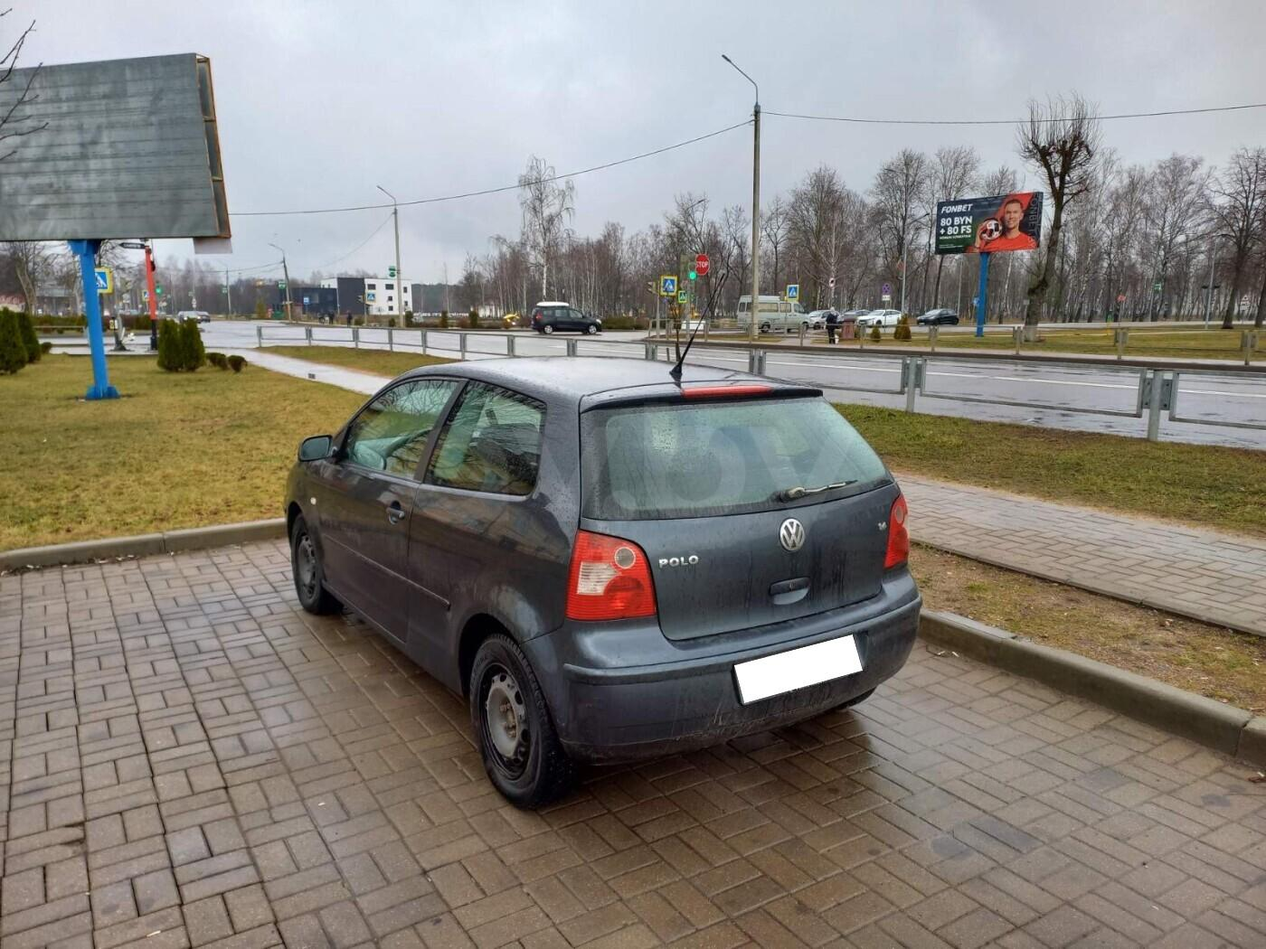Polo_2001-2005: (284, 349, 927, 821)
